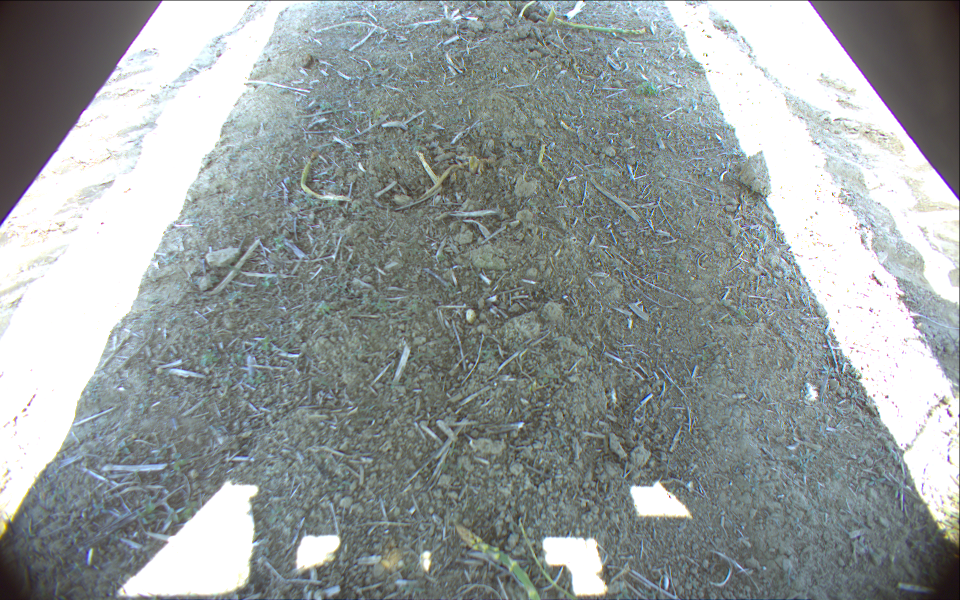aspa: (455, 522, 541, 600), (546, 6, 646, 35), (300, 151, 353, 203), (536, 142, 562, 187), (570, 53, 595, 79), (520, 1, 538, 19)
